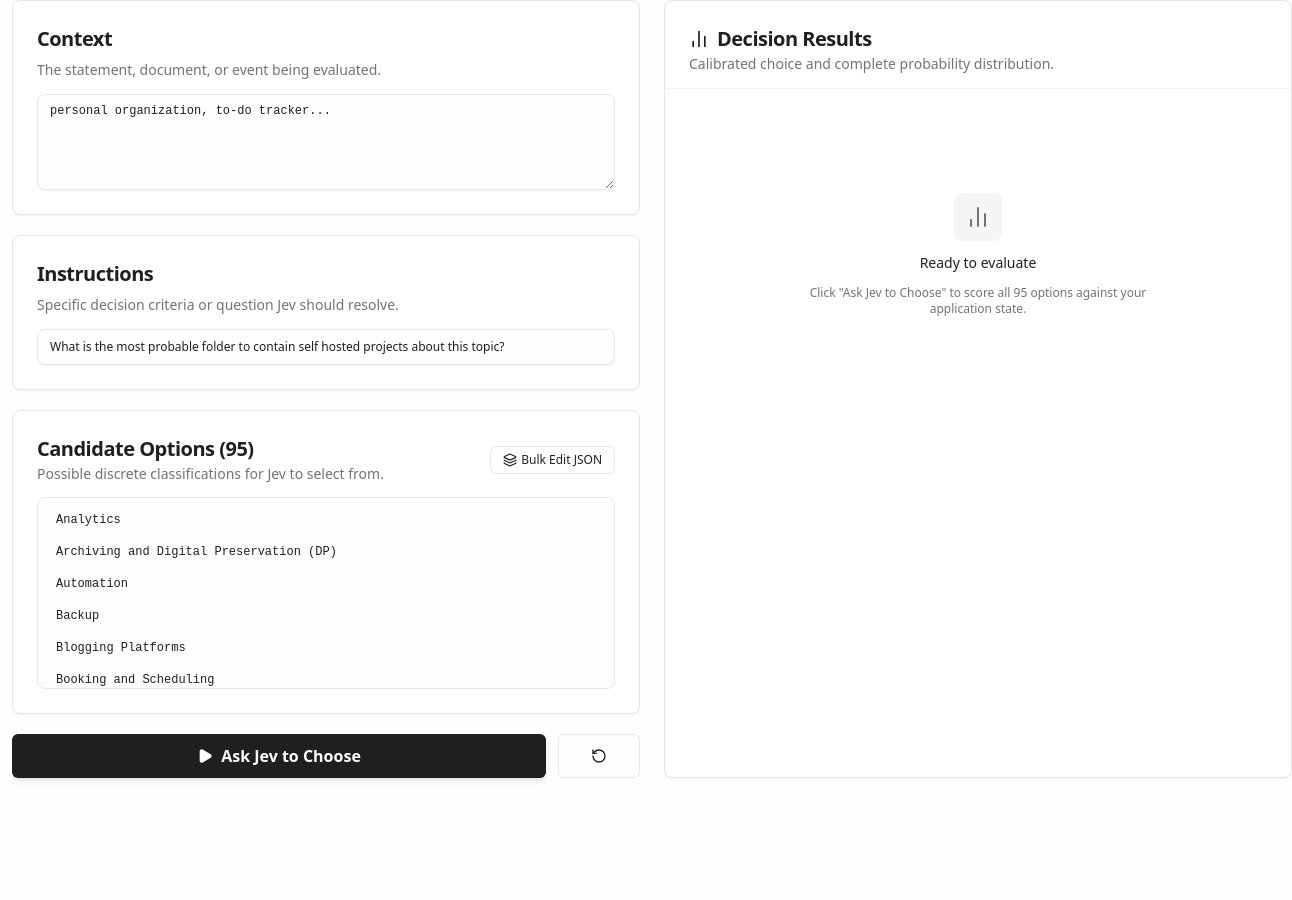
Test: UI Components & User Workflows › executes decision in QuestionChoiceView and renders unified scrollable ranked list with winning choice
Click the button "Ask Jev to Choose". click: (279, 756)
box: x1=12 y1=734 x2=546 y2=778
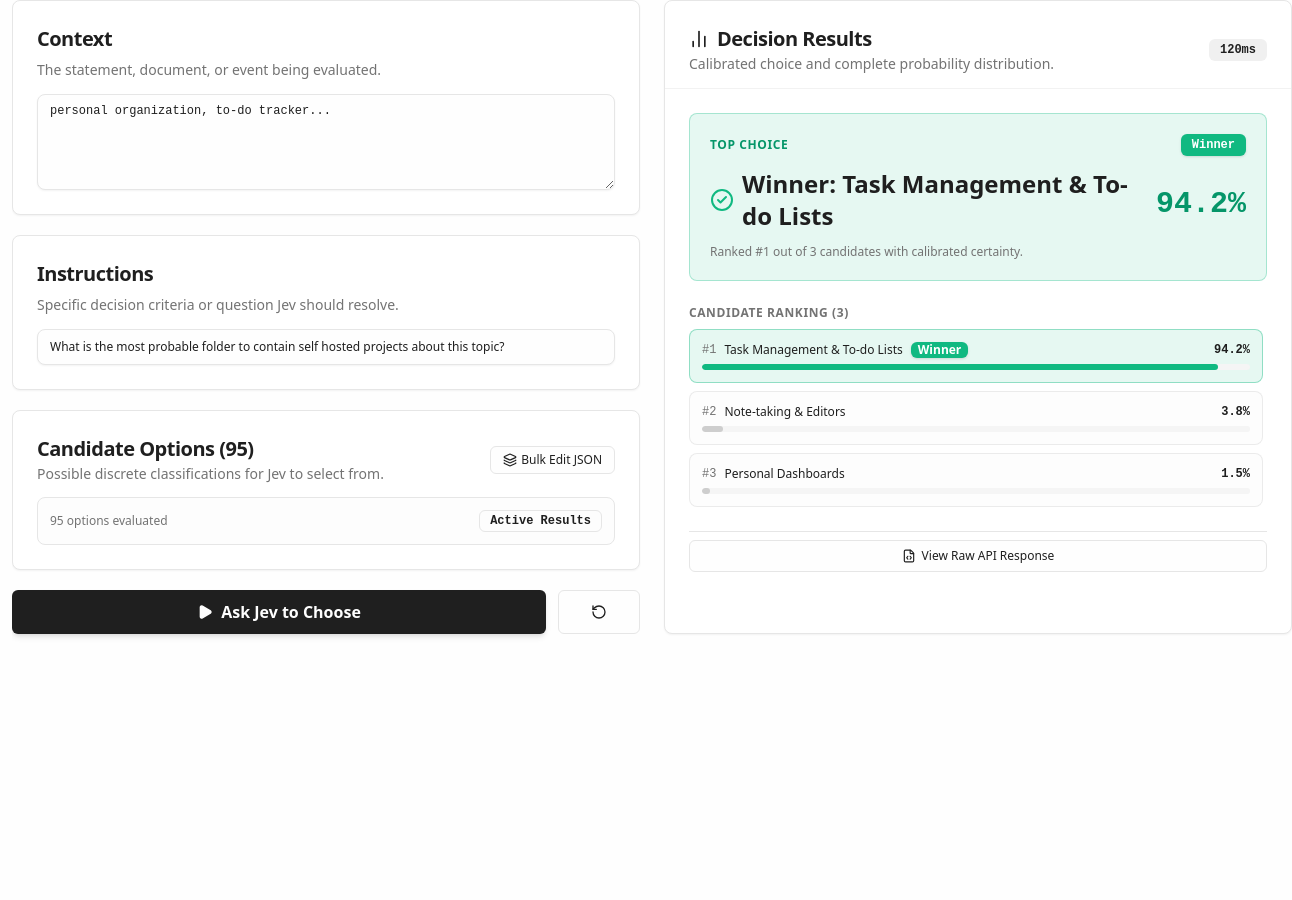
Result: the text "Top Choice" is shown at x1=710 y1=137 x2=788 y2=153
Result: the text "Task Management & To-do Lists" is shown at x1=724 y1=342 x2=903 y2=358
Result: the text "Note-taking & Editors" is shown at x1=724 y1=404 x2=846 y2=420
